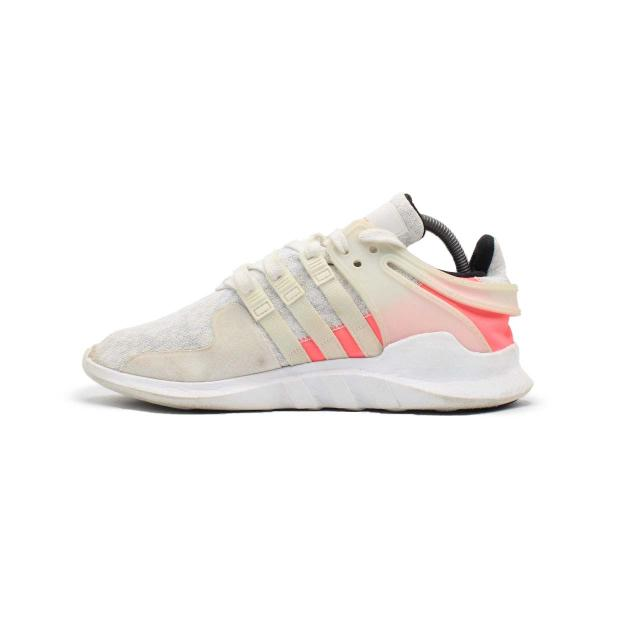heel: (463, 233, 521, 350)
midsole: (79, 330, 535, 412)
uppersole: (92, 192, 469, 383)
